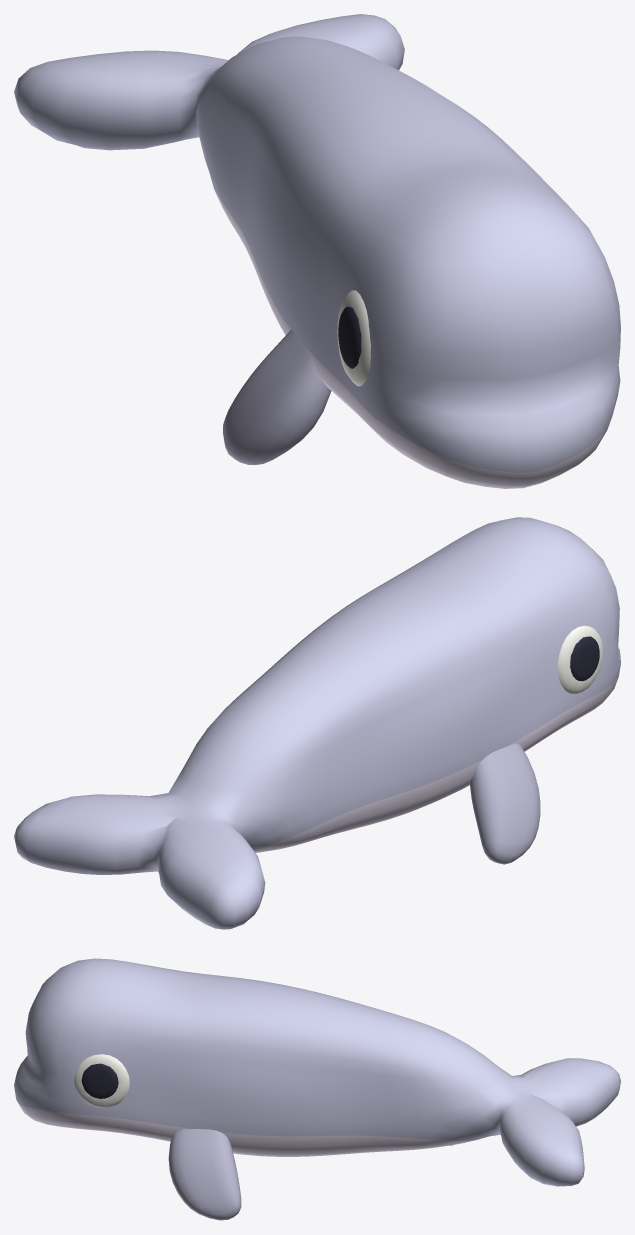
Rendered from Beluga.glb.
3 renders of one model, top to bottom at view 1: azimuth 30°, elevation 25°; view 2: azimuth 150°, elevation 25°; view 3: azimuth 270°, elevation 25°, orthographic. The views are drawn at different scales.
Parts seen in each view (by area): view 1: Beluga; view 2: Beluga; view 3: Beluga.
Part boxes in pixels (left/top/right/bottom): Beluga: left=14, top=14, right=620, bottom=488; Beluga: left=14, top=517, right=620, bottom=929; Beluga: left=14, top=958, right=620, bottom=1220.
Size of the model in its own units: 2.1 by 1.56 by 4.31.
Materials: 1 (1 with a texture image).
